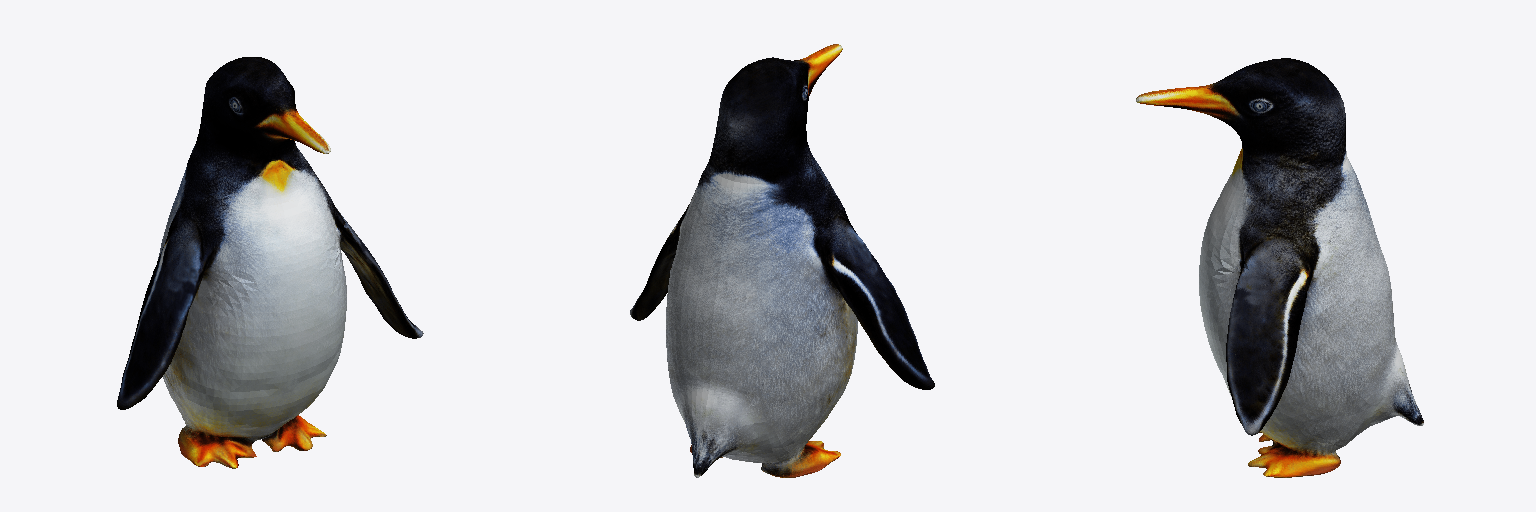
3 renders of one model, left to right at view 1: azimuth 30°, elevation 25°; view 2: azimuth 150°, elevation 25°; view 3: azimuth 270°, elevation 25°, orthographic.
Parts seen in each view (by area): view 1: Penguin_Quad; view 2: Penguin_Quad; view 3: Penguin_Quad.
Boxes of the visible parts, box(x1,y1,x2,y2) form: Penguin_Quad: box(117, 57, 423, 468); Penguin_Quad: box(630, 44, 934, 477); Penguin_Quad: box(1136, 58, 1423, 477).
Size of the model in its own units: 0.6173 by 0.7467 by 0.5058.
1 materials, 1 textured.